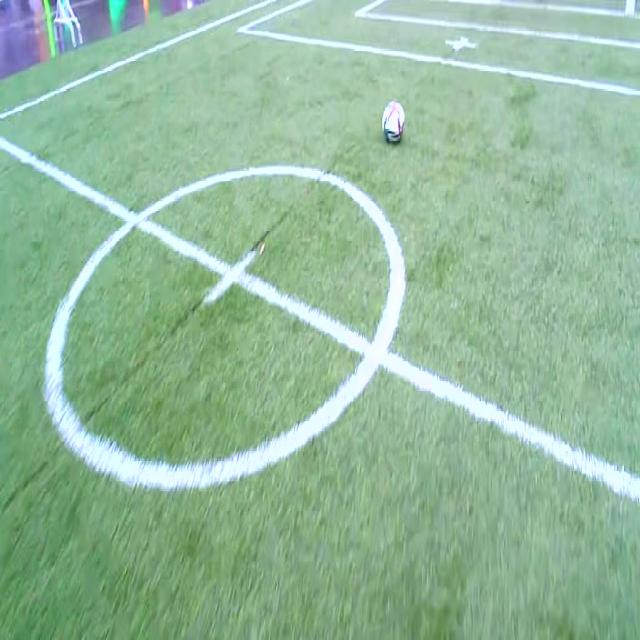ball: (382, 100, 405, 142)
